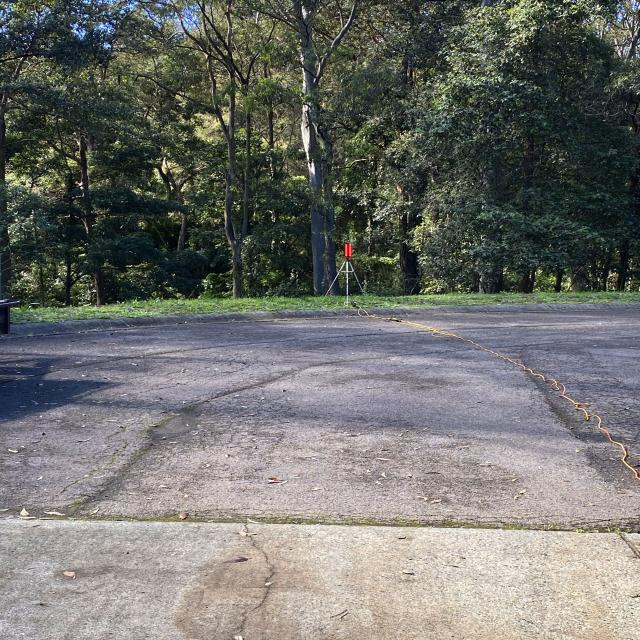matrix: (344, 244, 352, 257)
